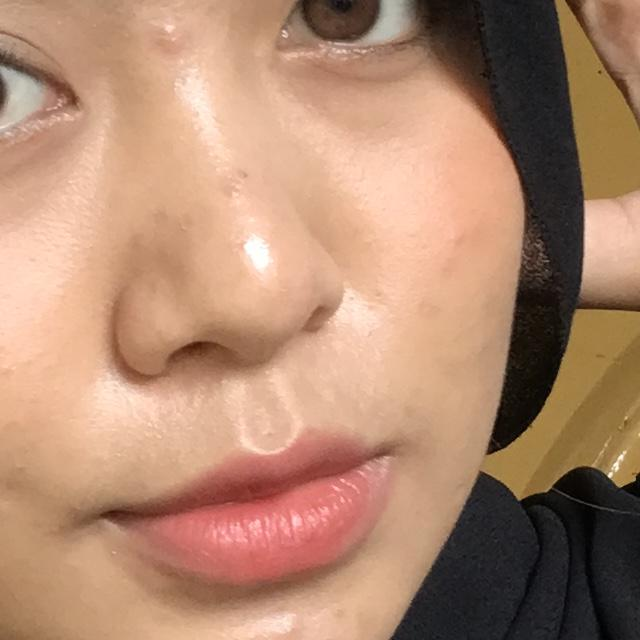mendengar: (430, 0, 640, 496)
